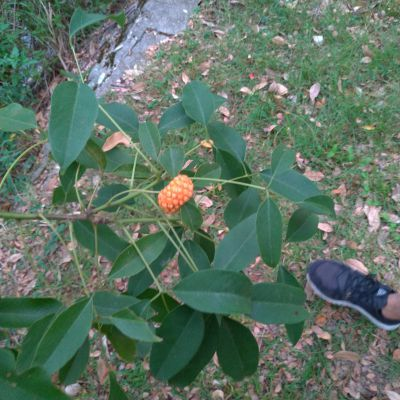eggs: (154, 172, 200, 213)
